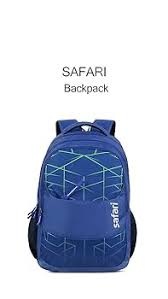backpack: (27, 118, 137, 272)
